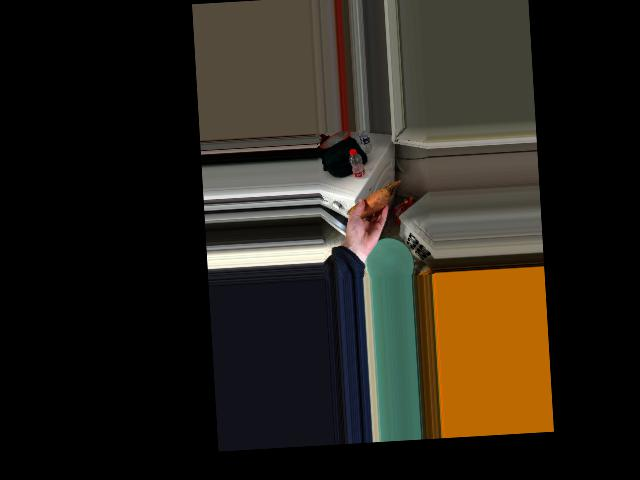sweet_potato: (354, 189, 389, 218)
